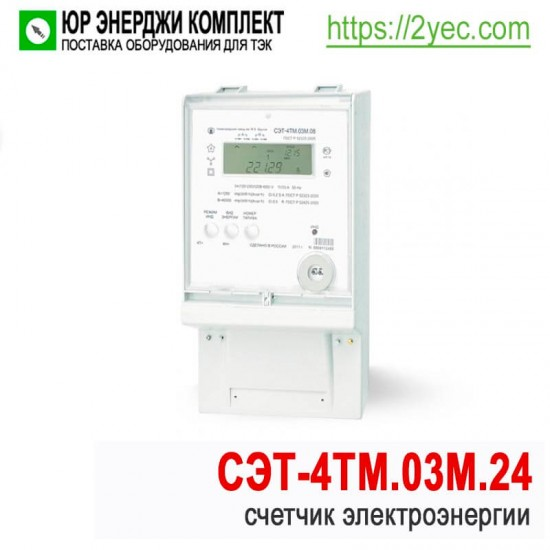counter: (179, 84, 364, 419)
counter_screen: (220, 138, 316, 178)
